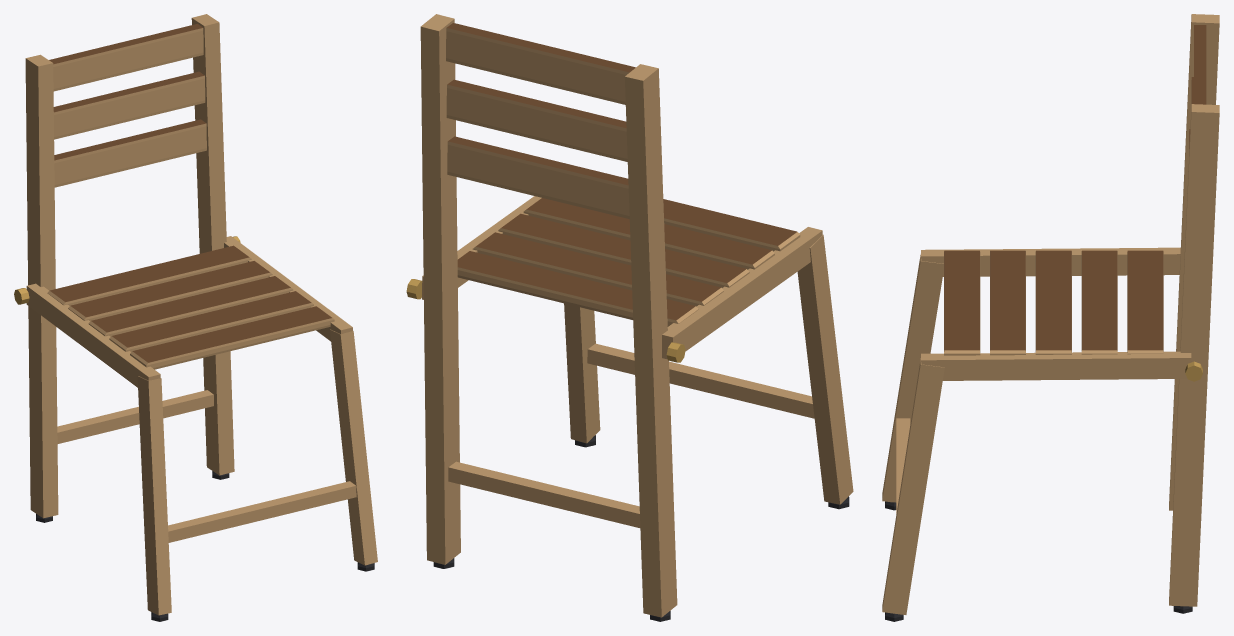
The model's file is FN_Chair_Folding.obj.
The picture shows the model from 3 angles, left to right: view 1: azimuth 30°, elevation 25°; view 2: azimuth 150°, elevation 25°; view 3: azimuth 270°, elevation 25°; orthographic projection. The views are drawn at different scales.
Visible parts, largest first — view 1: FN_Chair_Folding; view 2: FN_Chair_Folding; view 3: FN_Chair_Folding.
Boxes of the visible parts, x1,y1,x2,y2 form: FN_Chair_Folding: [14, 14, 377, 621]; FN_Chair_Folding: [406, 14, 853, 621]; FN_Chair_Folding: [882, 14, 1219, 621].
Size of the model in its own units: 0.446 by 0.8591 by 0.5268.
1 material, 1 textured.
